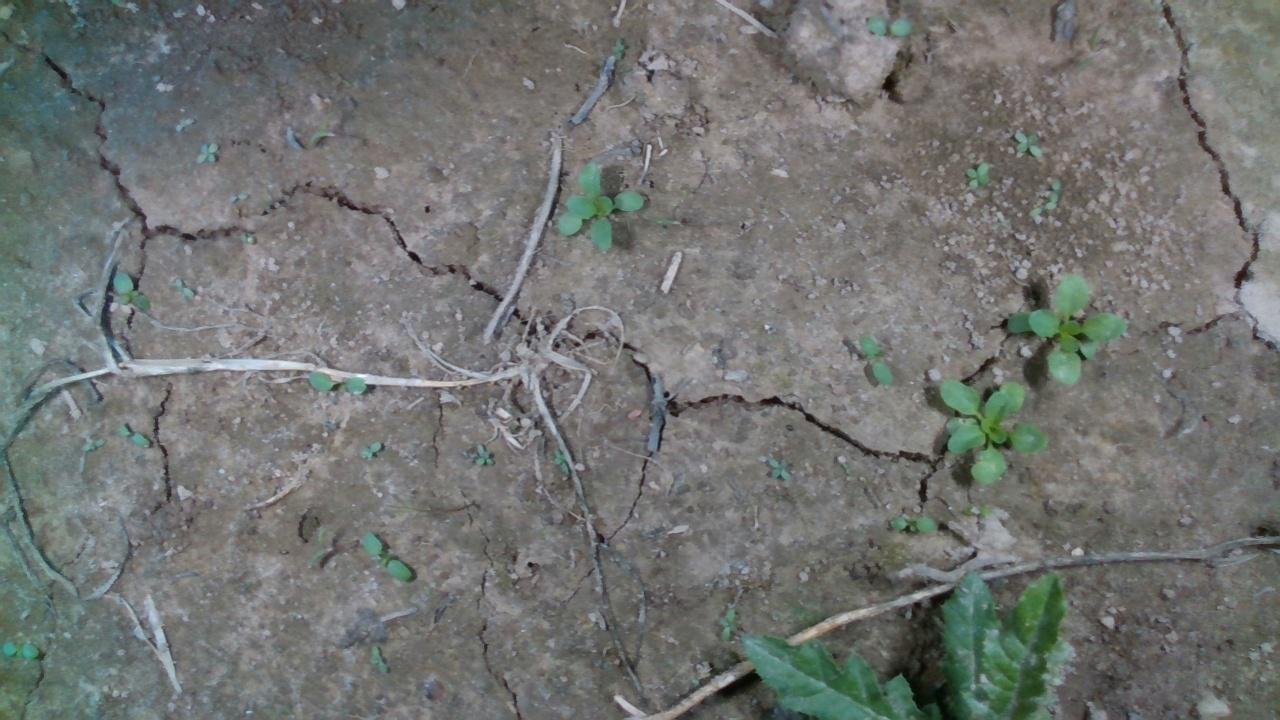weed: (850, 327, 896, 393), (164, 267, 213, 313), (954, 153, 993, 199), (889, 505, 934, 544), (301, 371, 370, 395), (1013, 121, 1044, 167), (762, 450, 799, 487), (192, 134, 219, 170), (972, 490, 998, 523)
